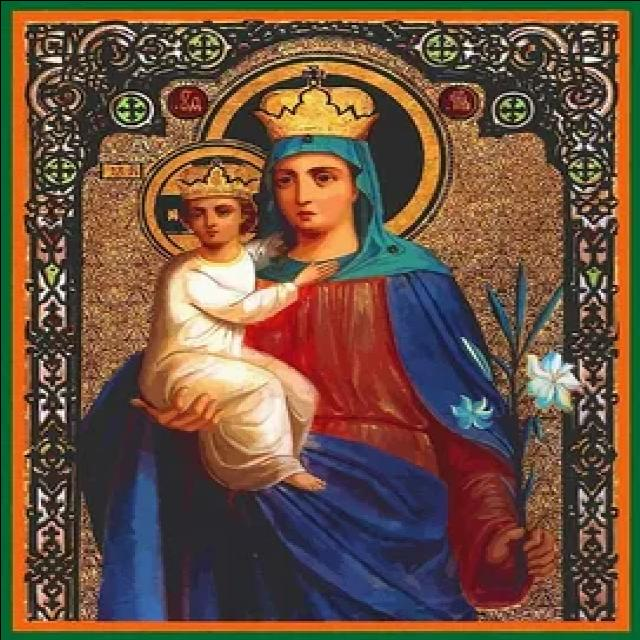mother of god: (76, 109, 524, 628)
